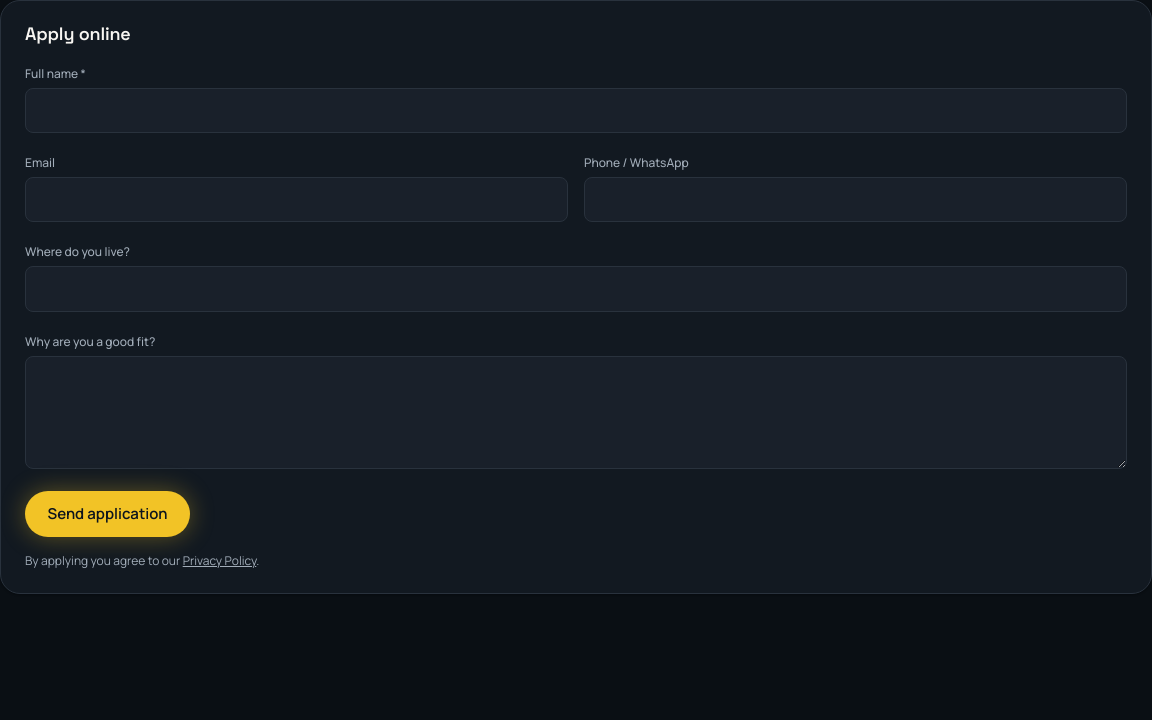
ApplyForm › sends the application for THIS vacancy and shows a reference
Step 1. Type "Ama Mensah" into the field labelled "Full name *" → {"x": 576, "y": 111}, box left=25, top=88, right=1127, bottom=133
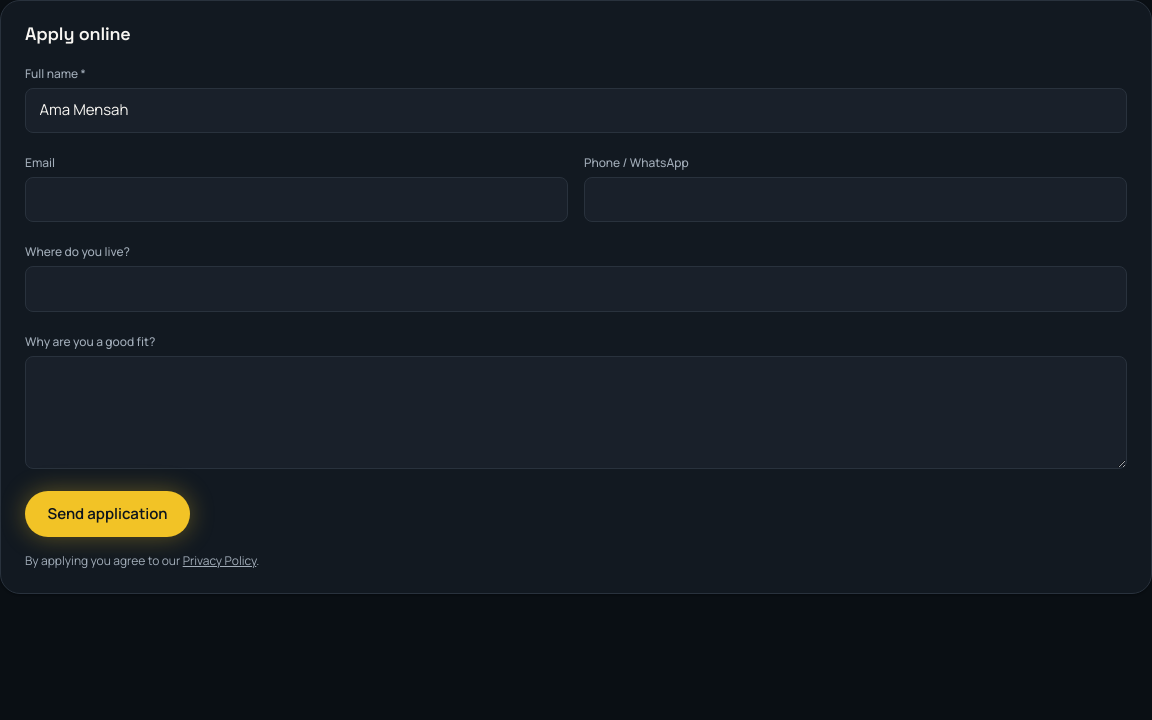
Step 2. Type "ama@example.com" into the field labelled "Email" → {"x": 296, "y": 200}, box left=25, top=177, right=568, bottom=222
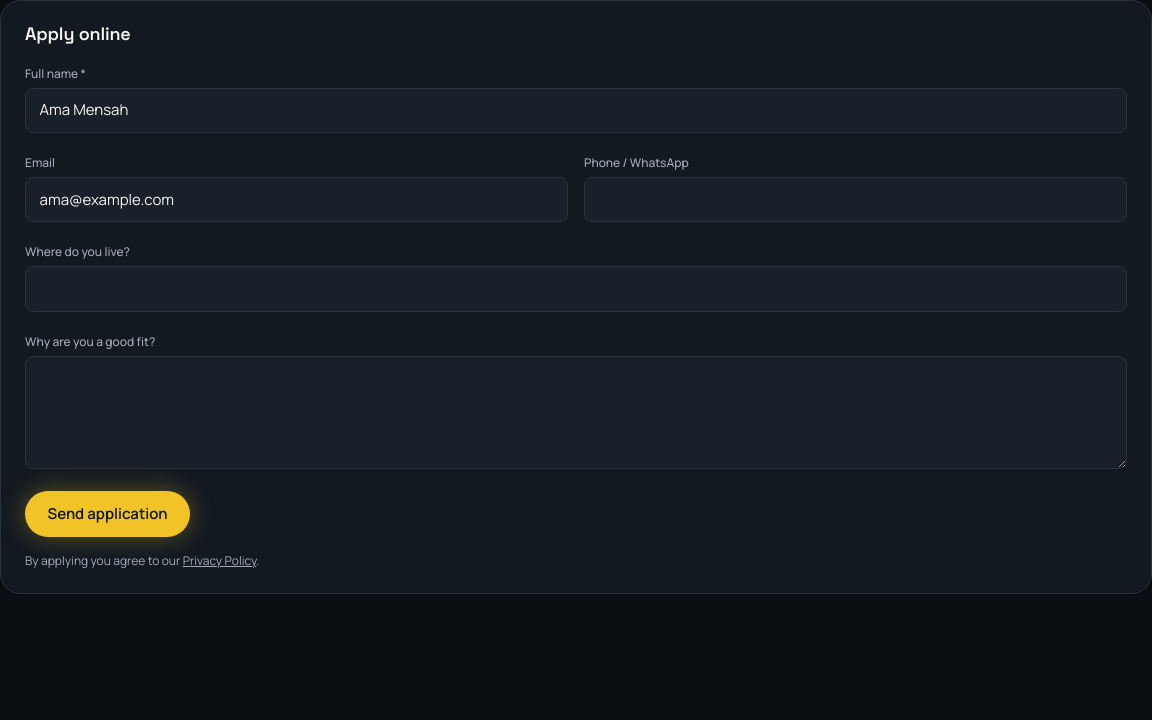
Step 3. Type "+233 24 000 0000" into the field labelled "Phone / WhatsApp" → {"x": 856, "y": 200}, box left=584, top=177, right=1127, bottom=222
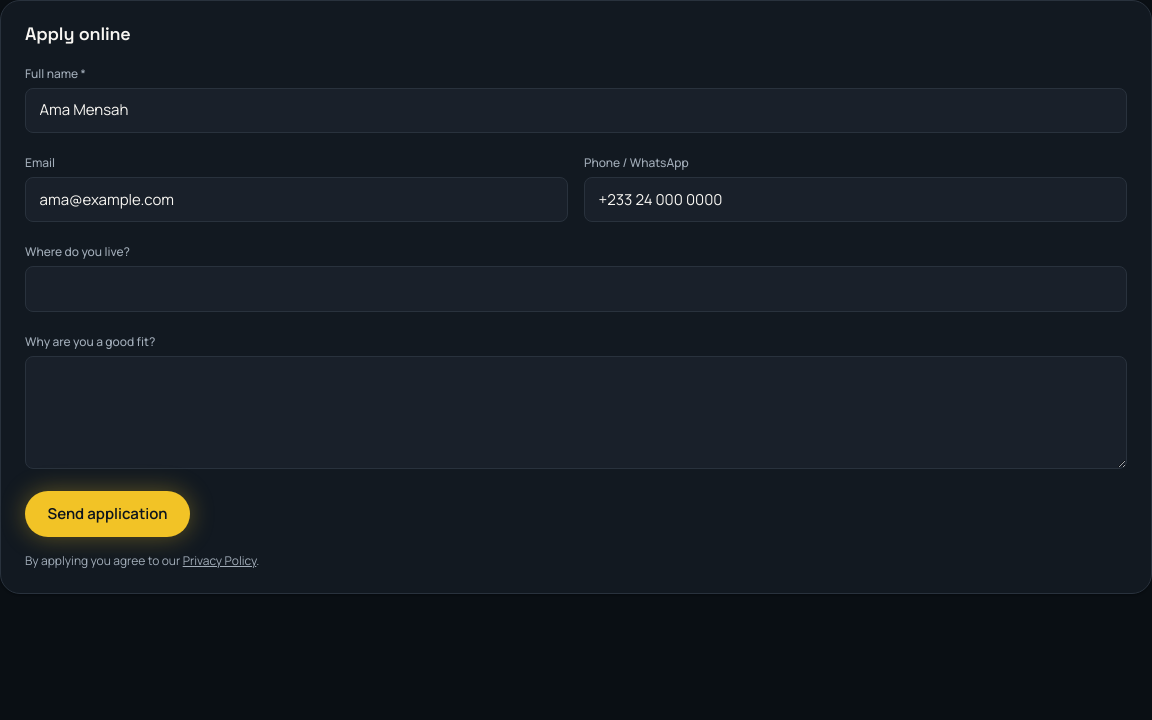
Step 4. Click the button "Send application" → {"x": 108, "y": 514}, box left=25, top=490, right=190, bottom=537
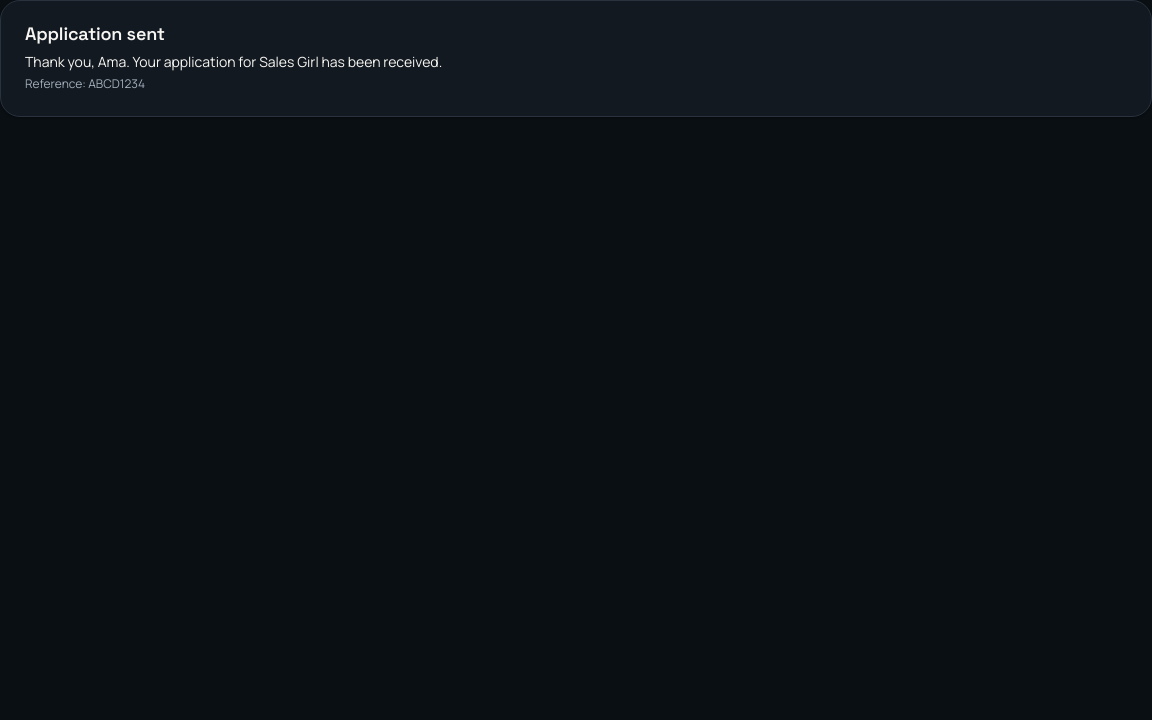
Now the heading "Application sent" is shown, box left=25, top=22, right=165, bottom=45
Now the text "Reference: ABCD1234" is shown, box left=25, top=75, right=145, bottom=92
